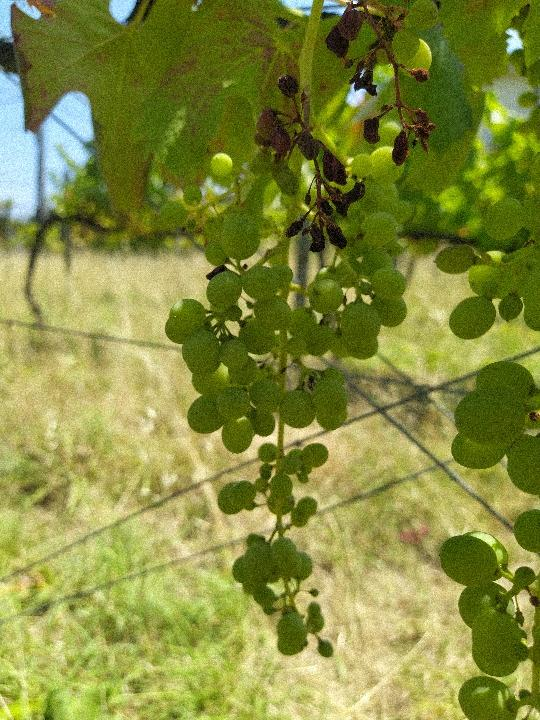grape: (158, 123, 416, 666), (251, 1, 439, 258)
